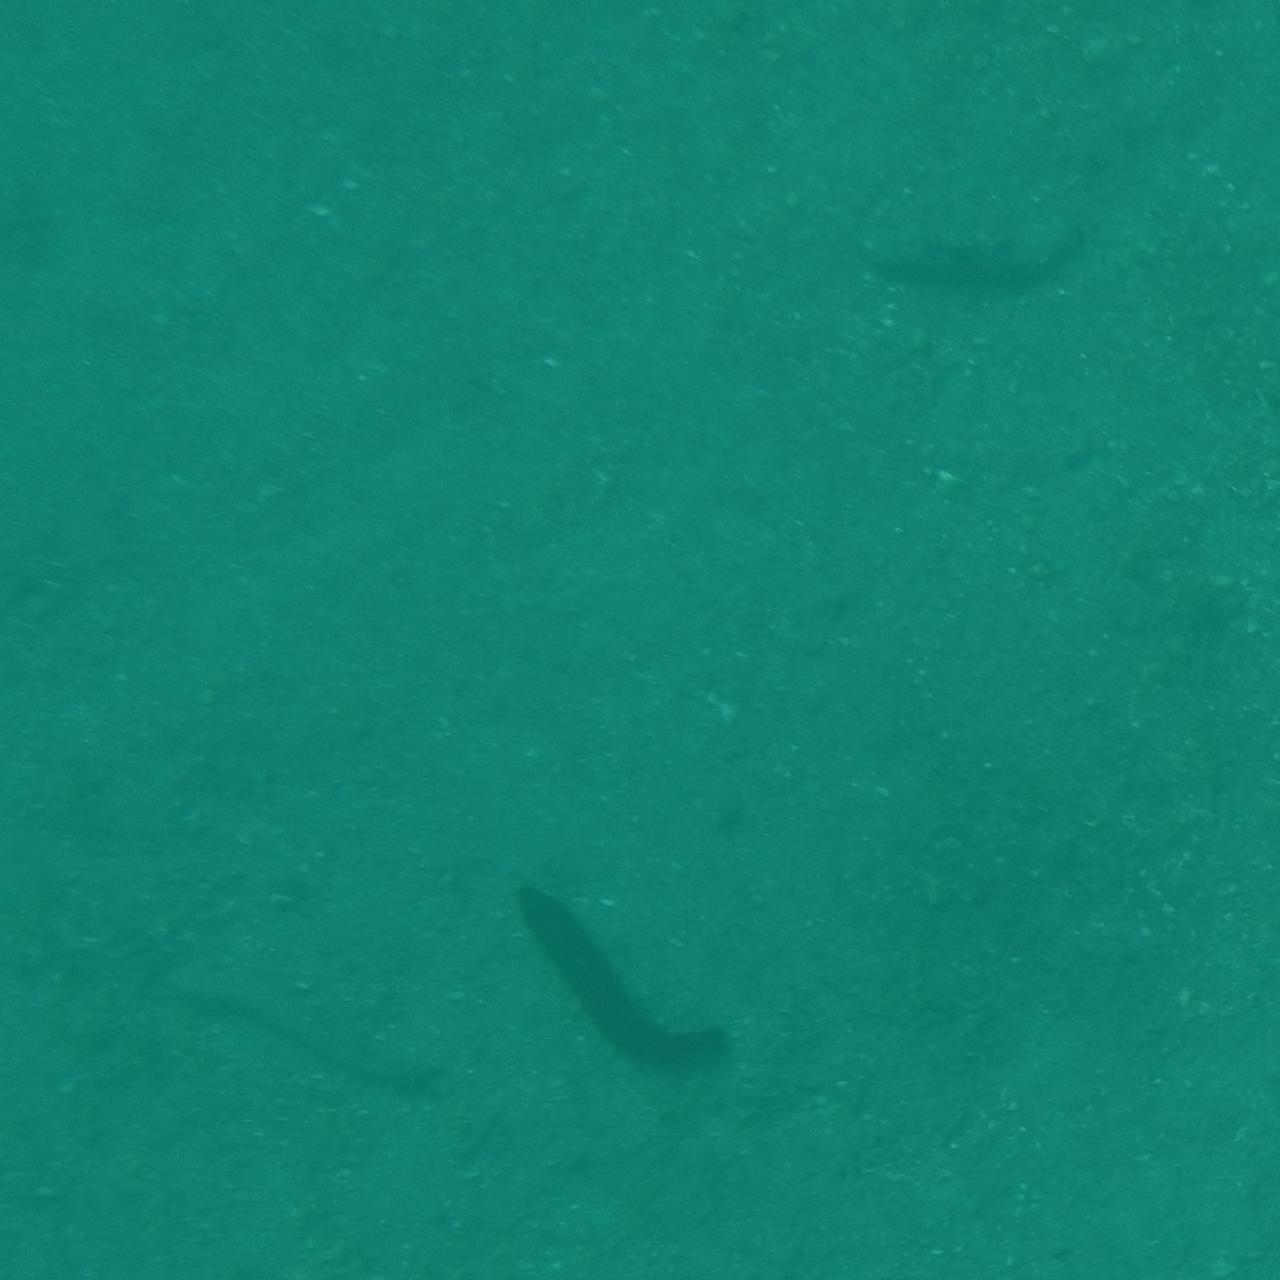Holothuria tubulosa: (491, 874, 747, 1084), (132, 952, 435, 1118), (858, 195, 1136, 298)
